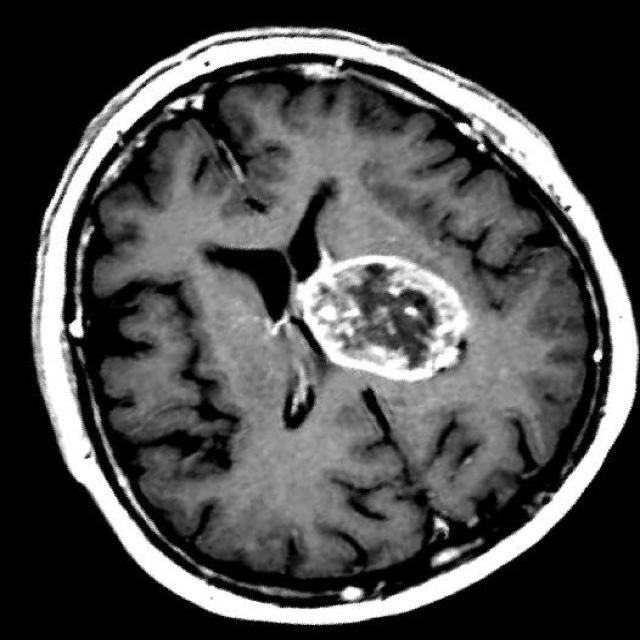Tumor-Cell: (297, 249, 492, 398)
